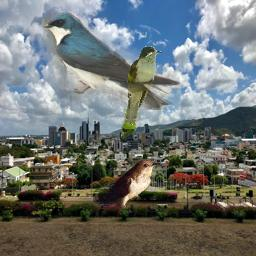Cuckoo: (121, 46, 162, 139), (93, 159, 162, 209)
Swallow: (43, 11, 181, 110)
